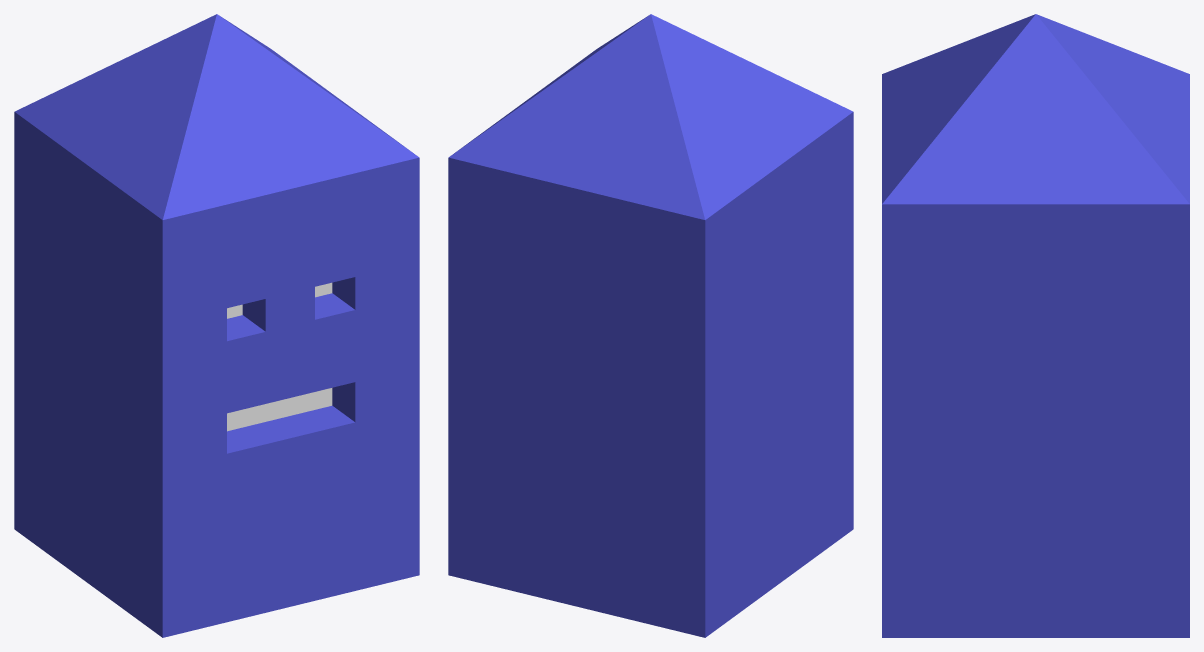
File: Scout.dae
3 renders of one model, left to right at view 1: azimuth 30°, elevation 25°; view 2: azimuth 150°, elevation 25°; view 3: azimuth 270°, elevation 25°, orthographic. The views are drawn at different scales.
Parts seen in each view (by area): view 1: Cube; view 2: Cube; view 3: Cube.
Part boxes in pixels (x1,y1,x2,y2): Cube: (14, 14, 419, 637); Cube: (448, 14, 853, 637); Cube: (882, 14, 1189, 637).
Bounding box in the file's own units: 1 × 1 × 2.
